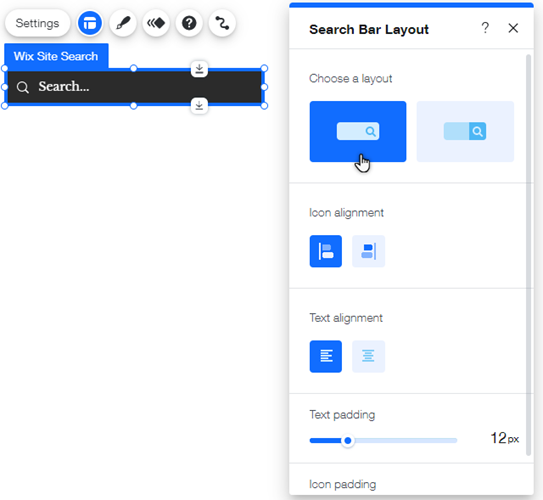search_box: (5, 69, 266, 106)
